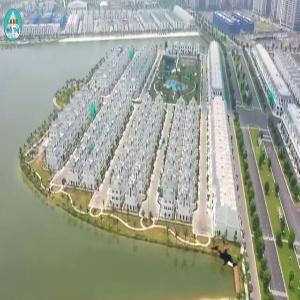drone: (199, 235, 248, 284)
